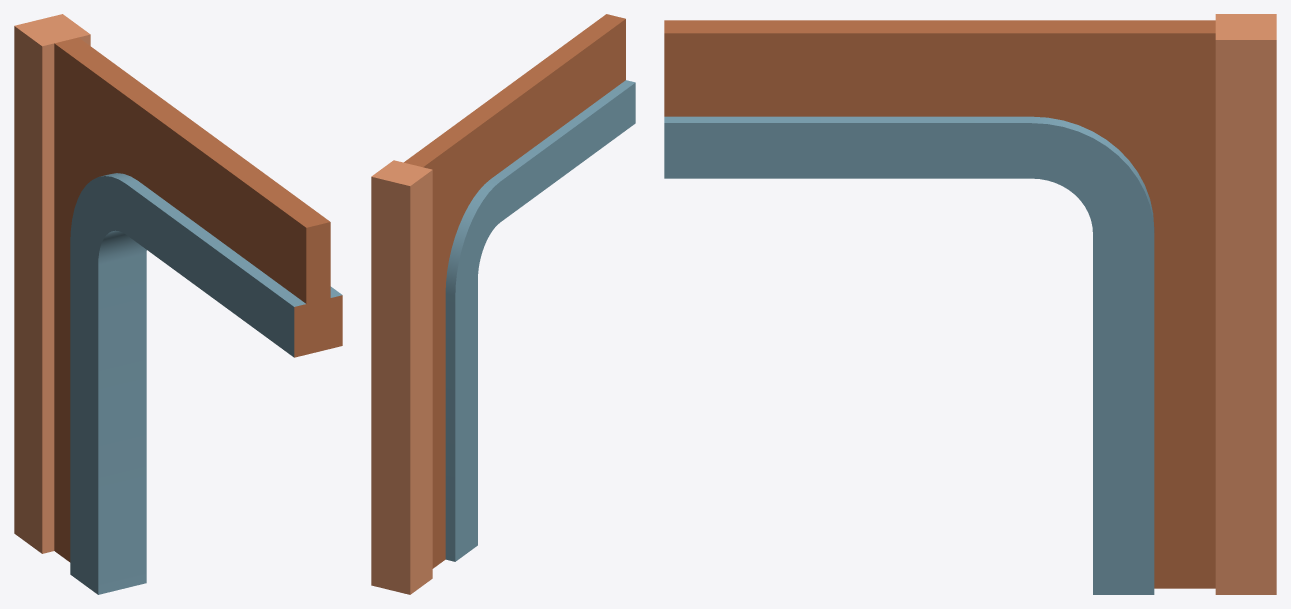
File: wallWoodDoorwaySquareWideCurved.obj
3 views of the same model, side by side, from view 1: azimuth 30°, elevation 25°; view 2: azimuth 150°, elevation 25°; view 3: azimuth 270°, elevation 25° (orthographic). The views are drawn at different scales.
Parts seen in each view (by area): view 1: wallWoodDoorwaySquareWideCurved; view 2: wallWoodDoorwaySquareWideCurved; view 3: wallWoodDoorwaySquareWideCurved.
Part boxes in pixels (x1,y1,x2,y2): wallWoodDoorwaySquareWideCurved: (14, 14, 342, 594); wallWoodDoorwaySquareWideCurved: (371, 14, 635, 594); wallWoodDoorwaySquareWideCurved: (664, 14, 1276, 594).
Bounding box in the file's own units: 0.1 × 1 × 1.
